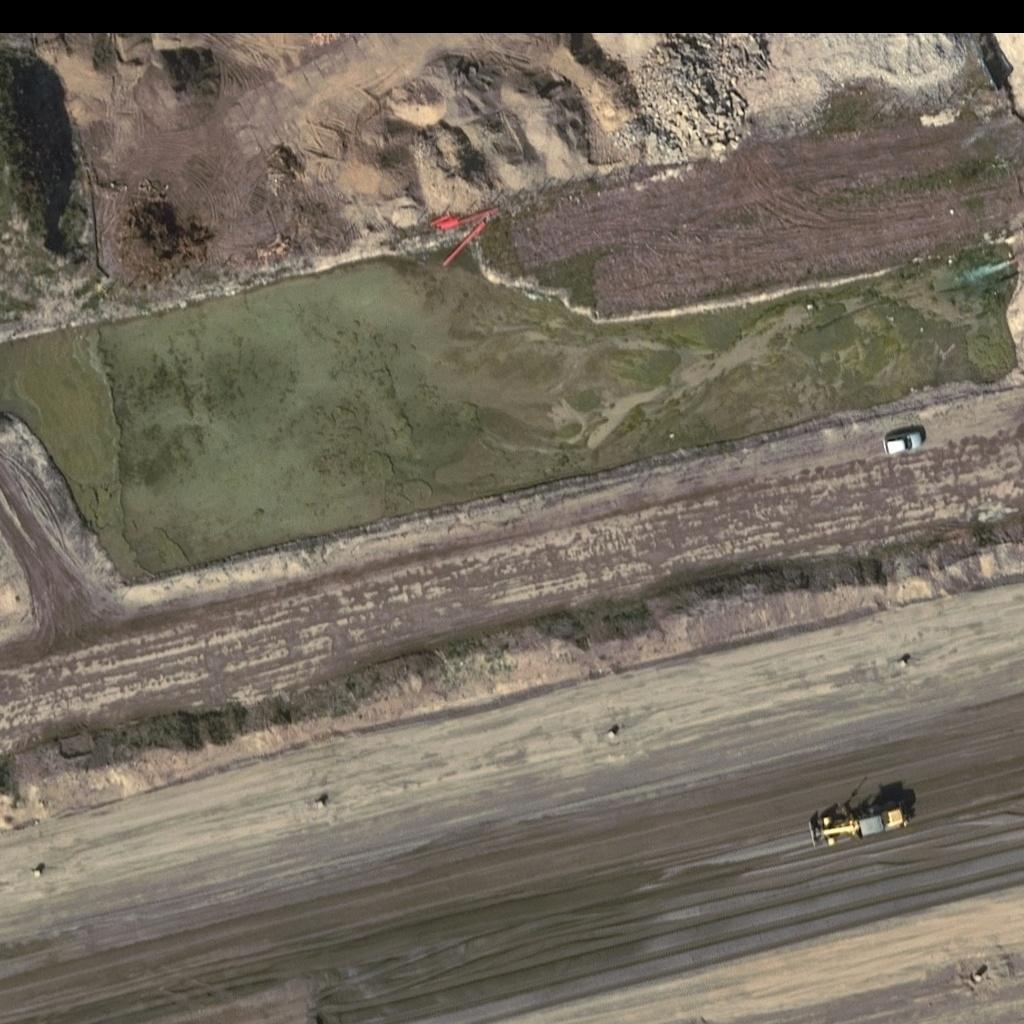koparka: (806, 803, 912, 850)
samochod_osobowy: (880, 426, 930, 461)
